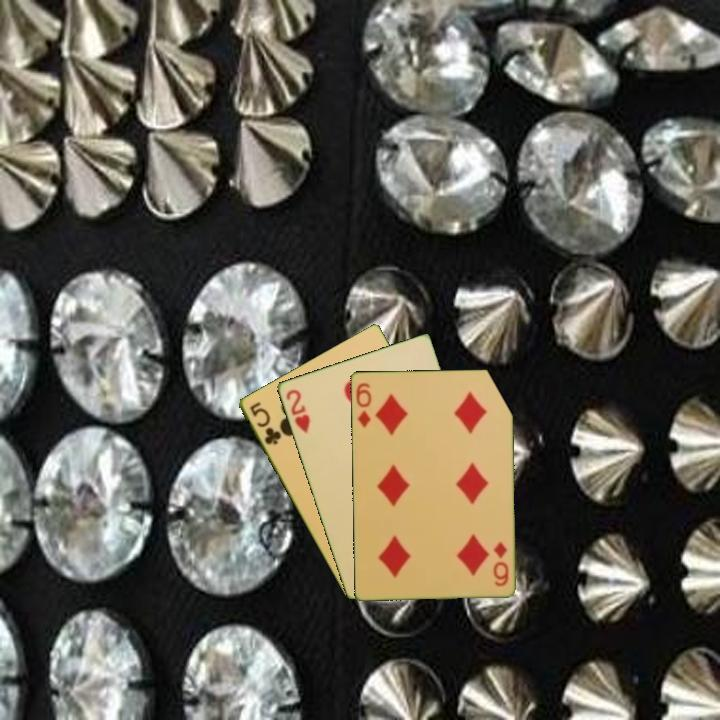2h: (282, 385, 313, 436)
5c: (246, 398, 284, 448)
6d: (352, 379, 374, 430), (489, 538, 511, 589)
